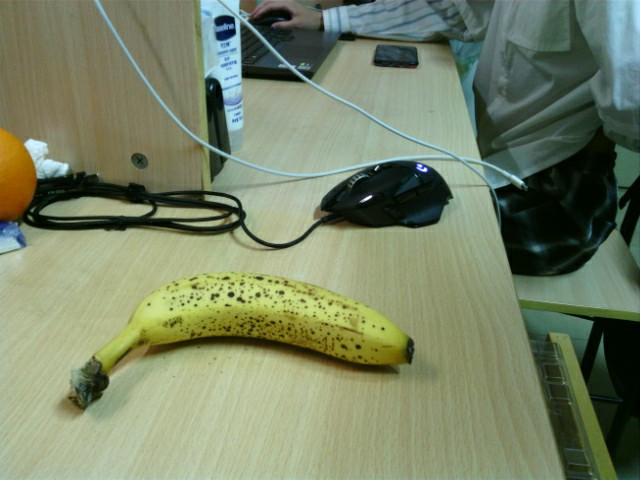normal_banana: (69, 273, 415, 409)
normal_orange: (1, 129, 39, 220)
